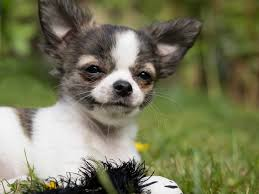Chihuahua: (6, 1, 197, 194)
